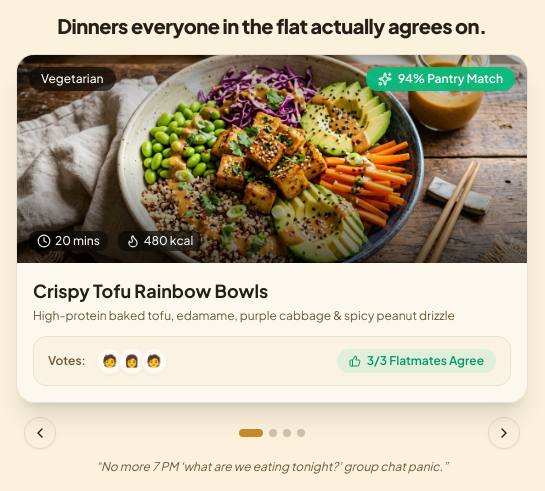
navigates to next and previous recipe
Click the button named "next recipe": (504, 433) left=488, top=417, right=520, bottom=449
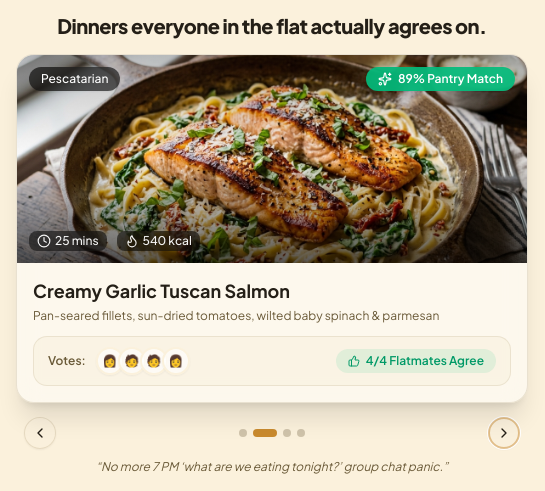
Now the heading "Creamy Garlic Tuscan Salmon" is shown, box left=33, top=279, right=290, bottom=302
Click the button named "previous recipe": (40, 433) left=24, top=417, right=56, bottom=449
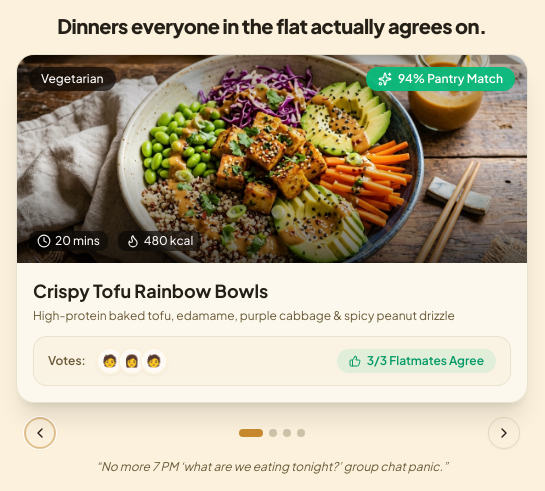
Now the heading "Crispy Tofu Rainbow Bowls" is shown, box left=33, top=279, right=268, bottom=302
